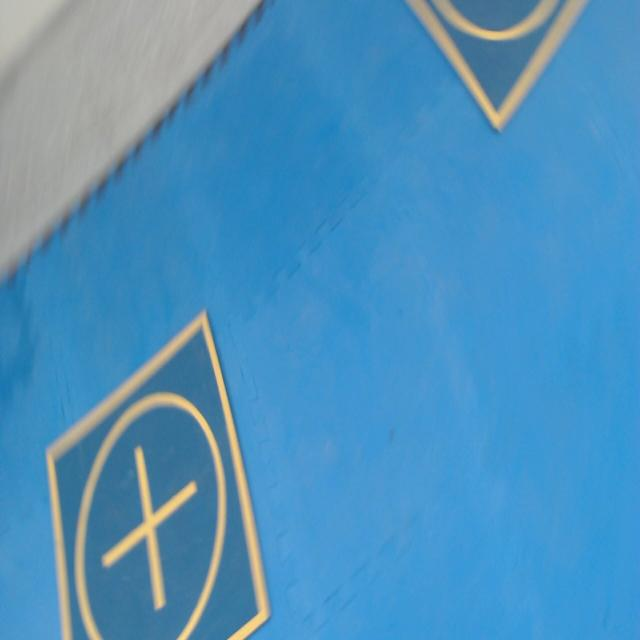base_pouso: (46, 306, 274, 639)
